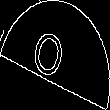O_S: (35, 24, 75, 86)
